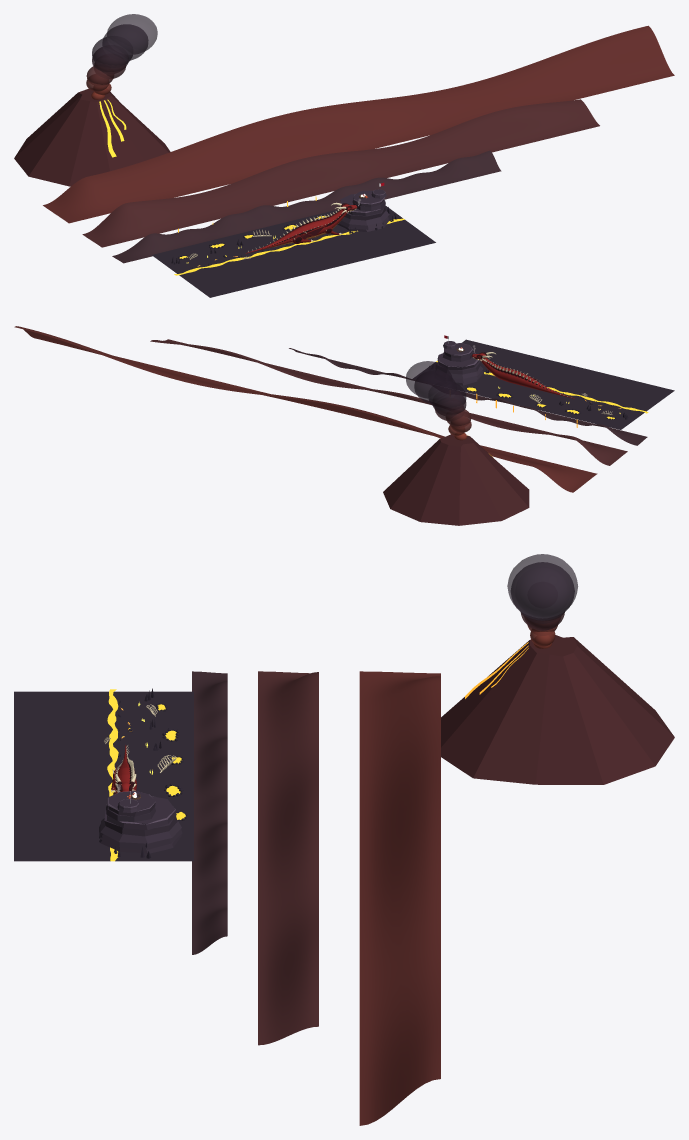
File: magma.glb
3 renders of one model, top to bottom at view 1: azimuth 30°, elevation 25°; view 2: azimuth 150°, elevation 25°; view 3: azimuth 270°, elevation 25°, orthographic. The views are drawn at different scales.
Parts seen in each view (by area): view 1: Ridge3, Ridge2, Ground, Static, Ridge1, Spire, Static.fx9, Static.fx8, Dragon.mesh, Static.fx7, Static.fx6, Static.fx11; view 2: Static, Ground, Ridge3, Ridge2, Spire, Ridge1, Static.fx9, Static.fx8, Static.fx7, Dragon.mesh, Static.fx6, Static.fx4; view 3: Ridge3, Static, Ground, Ridge2, Ridge1, Spire, Static.fx9, Static.fx8, Static.fx7.
Boxes of the visible parts, box(x1,y1,x2,y2) form: Ridge3: box(43, 25, 674, 223); Ridge2: box(82, 99, 599, 247); Ground: box(152, 205, 435, 297); Static: box(14, 89, 396, 268); Ridge1: box(112, 150, 501, 263); Spire: box(337, 189, 389, 231); Static.fx9: box(107, 14, 157, 54); Static.fx8: box(102, 24, 148, 60); Dragon.mesh: box(245, 209, 347, 253); Static.fx7: box(92, 36, 132, 67); Static.fx6: box(92, 45, 128, 73); Static.fx11: box(174, 218, 404, 275); Static: box(383, 341, 629, 525); Ground: box(413, 339, 674, 429); Ridge3: box(14, 326, 597, 492); Ridge2: box(150, 339, 627, 465); Spire: box(435, 341, 484, 385); Ridge1: box(289, 348, 647, 445); Static.fx9: box(406, 361, 452, 398); Static.fx8: box(414, 370, 456, 403); Static.fx7: box(428, 381, 466, 410); Dragon.mesh: box(480, 358, 574, 398); Static.fx6: box(433, 390, 466, 415); Static.fx4: box(446, 409, 471, 427); Ridge3: box(359, 671, 440, 1125); Static: box(99, 635, 674, 858); Ground: box(14, 691, 193, 861); Ridge2: box(258, 671, 318, 1045); Ridge1: box(192, 671, 227, 954); Spire: box(99, 791, 182, 853); Static.fx9: box(507, 554, 577, 618); Static.fx8: box(511, 562, 574, 620); Static.fx7: box(519, 568, 566, 611).
Size of the model in its own units: 212 by 44.8 by 130.
